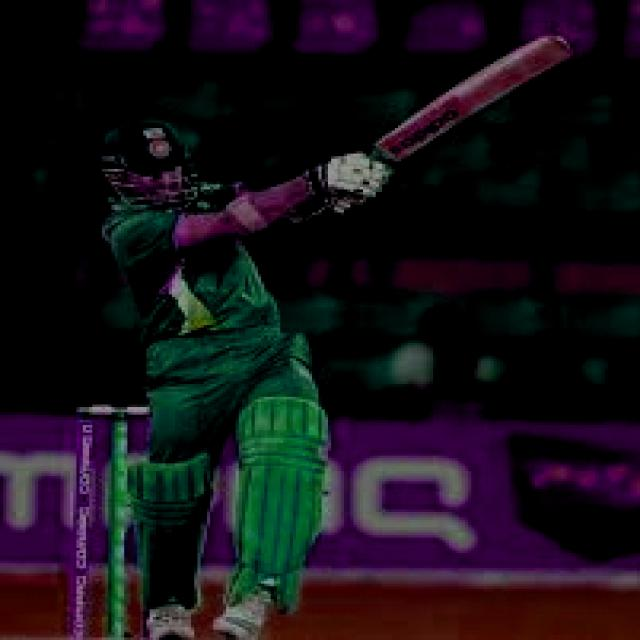toe: (514, 29, 587, 76)
